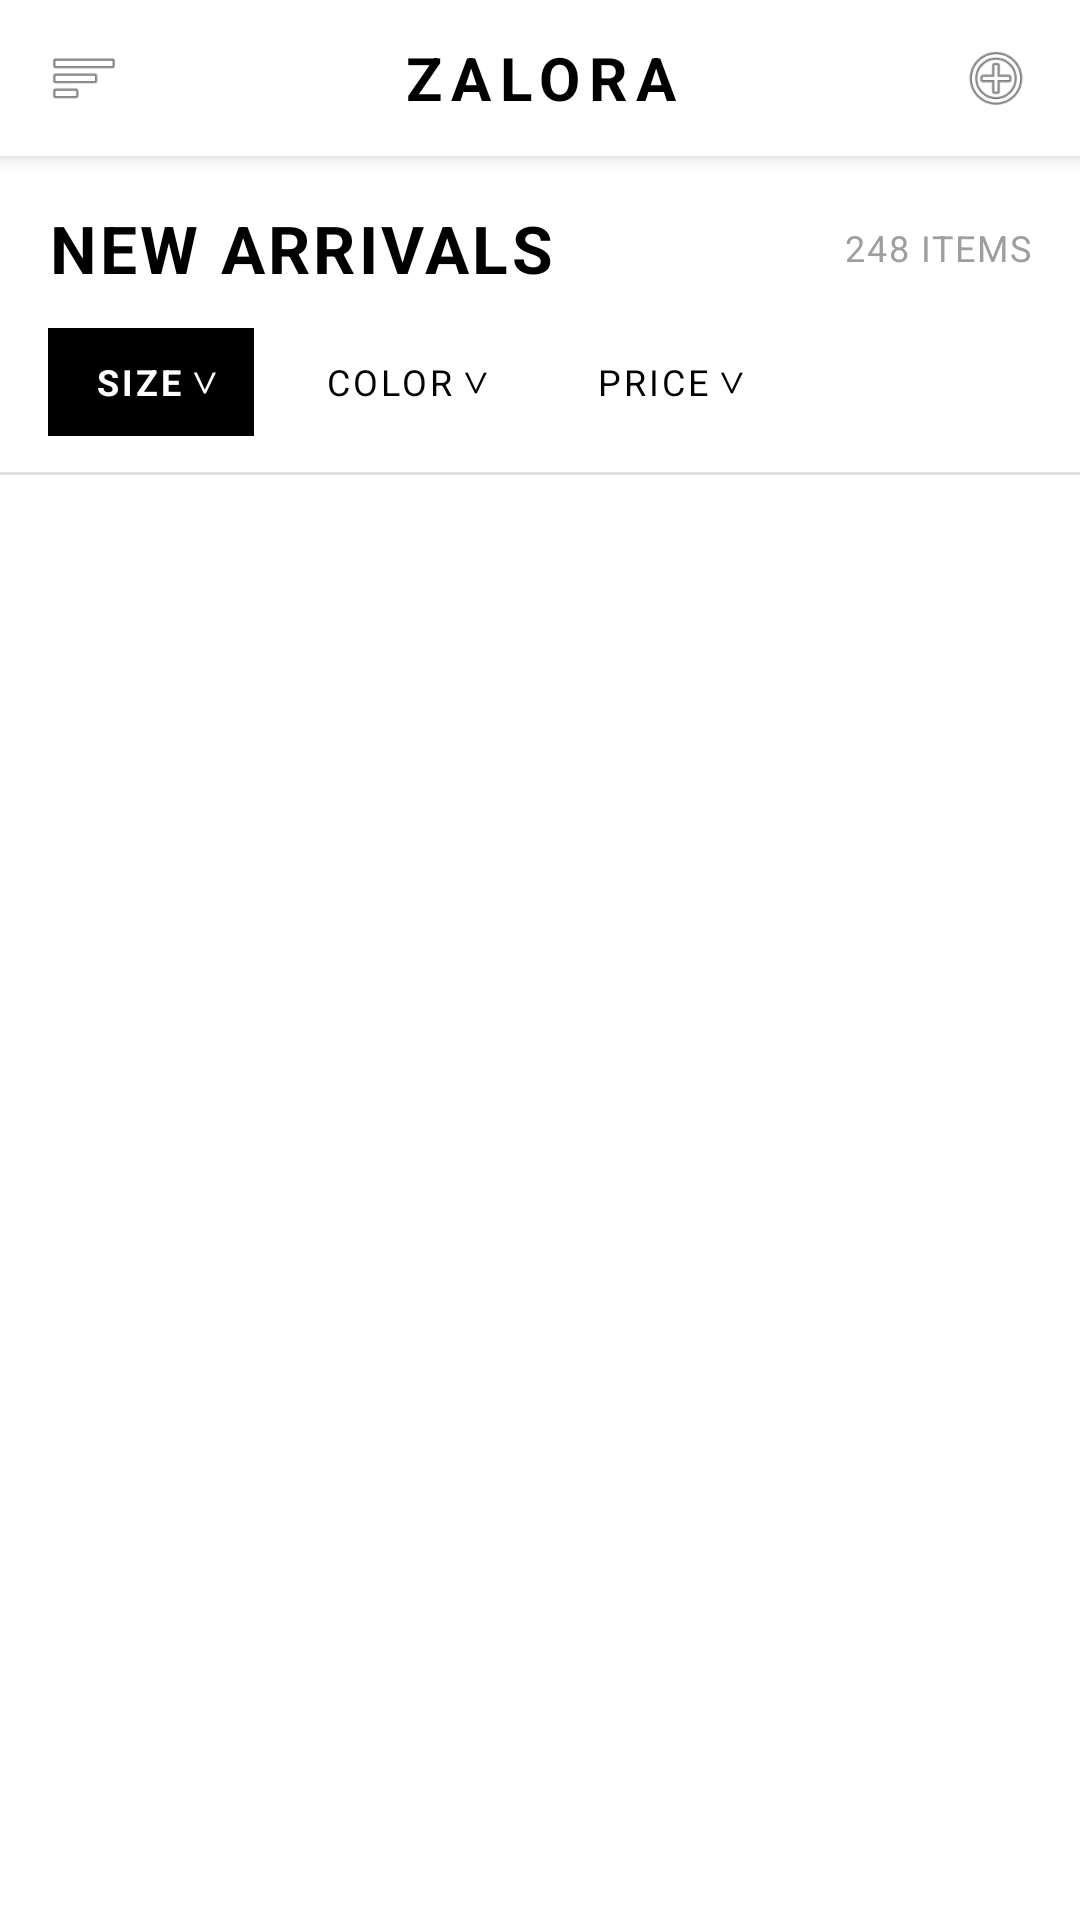

Locate icon controls on the screen. Image size 1080x1920, boxes as bbox=(x1, y1, x2, y2).
Menu: bbox=(53, 58, 115, 99)
